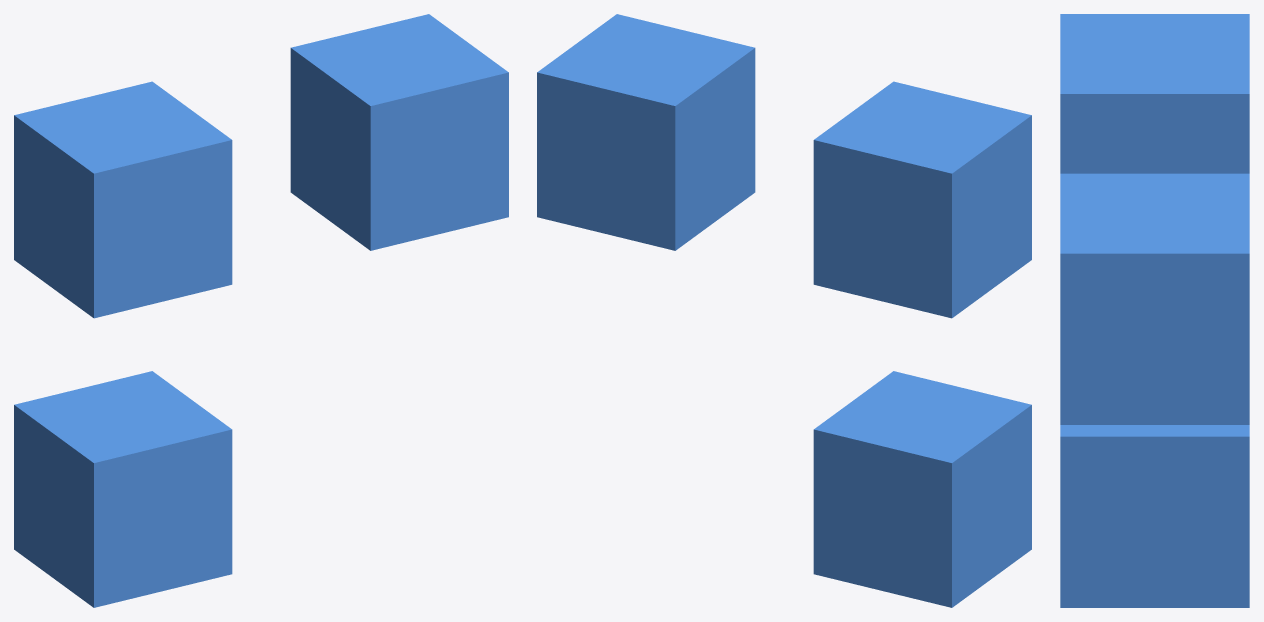
File: dual_joints_ctrl.gltf
The picture shows the model from 3 angles, left to right: view 1: azimuth 30°, elevation 25°; view 2: azimuth 150°, elevation 25°; view 3: azimuth 270°, elevation 25°; orthographic projection. The views are drawn at different scales.
Visible parts, largest first — view 1: Cube1.002, Cube2.002, Cube3.003; view 2: Cube1.002, Cube2.002, Cube3.003; view 3: Cube3.003, Cube1.002, Cube2.002.
Boxes of the visible parts, x1,y1,x2,y2 form: Cube1.002: [14, 371, 232, 607]; Cube2.002: [14, 81, 232, 318]; Cube3.003: [290, 14, 508, 250]; Cube1.002: [813, 371, 1031, 607]; Cube2.002: [813, 81, 1031, 318]; Cube3.003: [537, 14, 755, 250]; Cube3.003: [1060, 173, 1249, 424]; Cube1.002: [1060, 425, 1249, 607]; Cube2.002: [1060, 14, 1249, 173].
Size of the model in its own units: 3 by 3 by 1.
